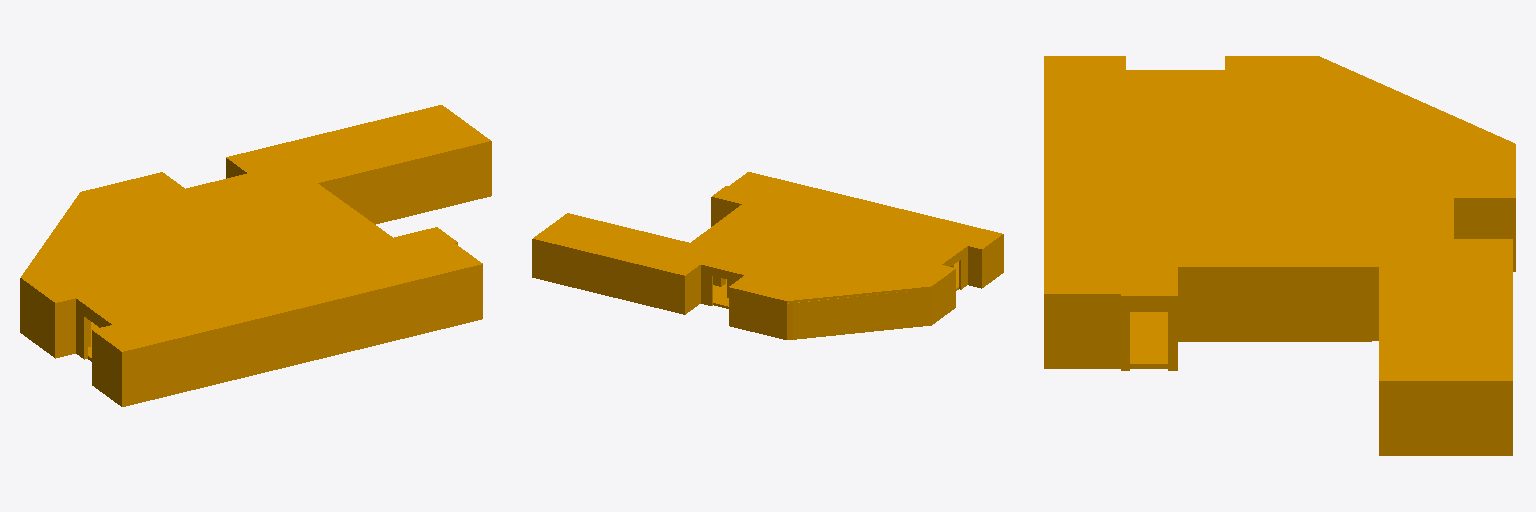
URDF robot description (science_hall):
<?xml version="1.0" ?>
<robot name="science_hall">
  <link name="base">
    <inertial>
      <mass value="0.0"/>
      <inertia ixx="0" ixy="0" ixz="0" iyy="0" iyz="0" izz="0"/>
    </inertial>
    <visual>
      <geometry>
        <mesh filename="science_hall_lv5.stl" scale="0.001 0.001 0.001"/>
      </geometry>
    </visual>
    <collision>
      <geometry>
        <mesh filename="science_hall_lv5.stl" scale="0.001 0.001 0.001"/>
      </geometry>
    </collision>
  </link>
</robot>

--- What the picture shows (computed from the rendered views, not written in the file) ---
3 views of the same robot in one strip: view 1: azimuth 30°, elevation 25°; view 2: azimuth 150°, elevation 25°; view 3: azimuth 270°, elevation 25° (orthographic).
Model science_hall with 1 links and 0 joints (none), rooted at base, posed every joint at zero.
Links seen in each view (by area): view 1: base; view 2: base; view 3: base.
Link boxes in pixels (x1,y1,x2,y2): base: [20, 105, 491, 406]; base: [532, 172, 1003, 339]; base: [1044, 56, 1515, 455].
Bounding box of the posed robot: 29.83 × 18.27 × 3.2 m (x, y, z).
Meshes: 1 distinct files referenced, 1 mesh visuals loaded (1 binary STL).
